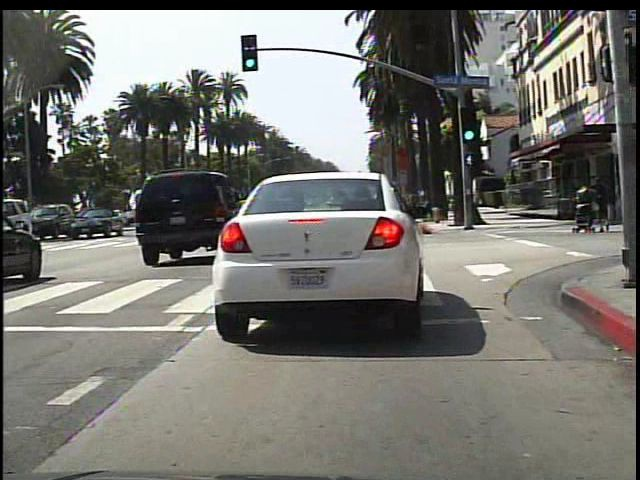person: (571, 161, 612, 240)
